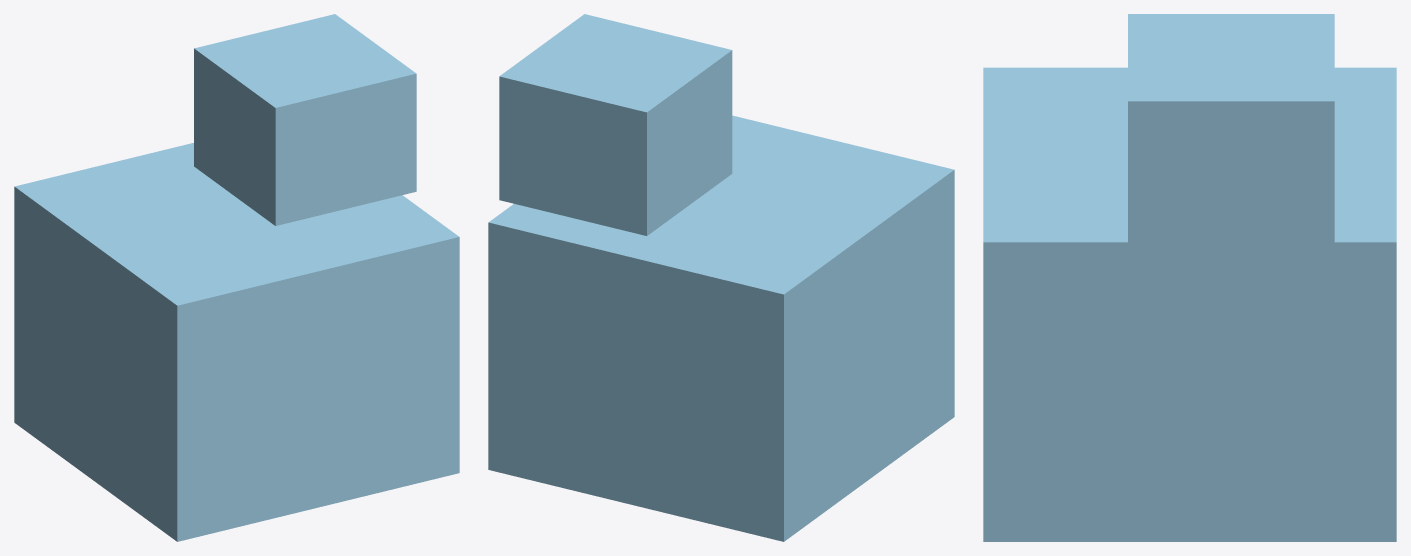
File: ice_block.glb
3 renders of one model, left to right at view 1: azimuth 30°, elevation 25°; view 2: azimuth 150°, elevation 25°; view 3: azimuth 270°, elevation 25°, orthographic. The views are drawn at different scales.
Parts seen in each view (by area): view 1: ice_block; view 2: ice_block; view 3: ice_block.
Part boxes in pixels (<box>): ice_block: <box>14,14,459,541</box>; ice_block: <box>488,14,954,541</box>; ice_block: <box>983,14,1396,541</box>.
Size of the model in its own units: 1.05 by 1.2 by 1.
